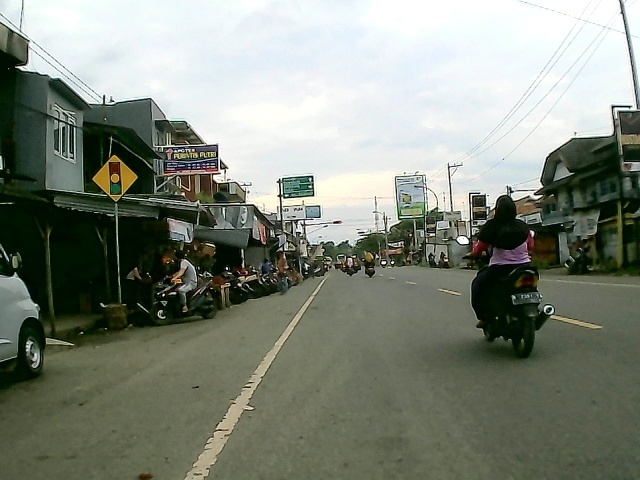Lampu isyarat: (90, 150, 140, 203)
